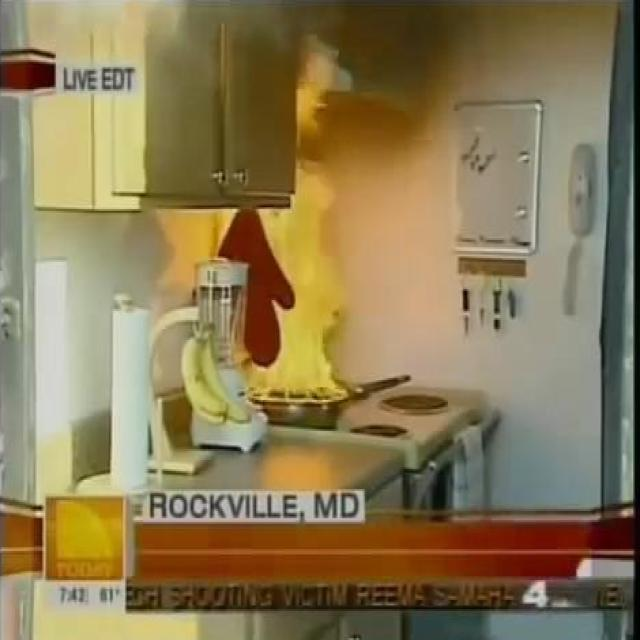fire: (0, 0, 301, 78), (331, 0, 482, 93)
smoke: (226, 59, 356, 410)
